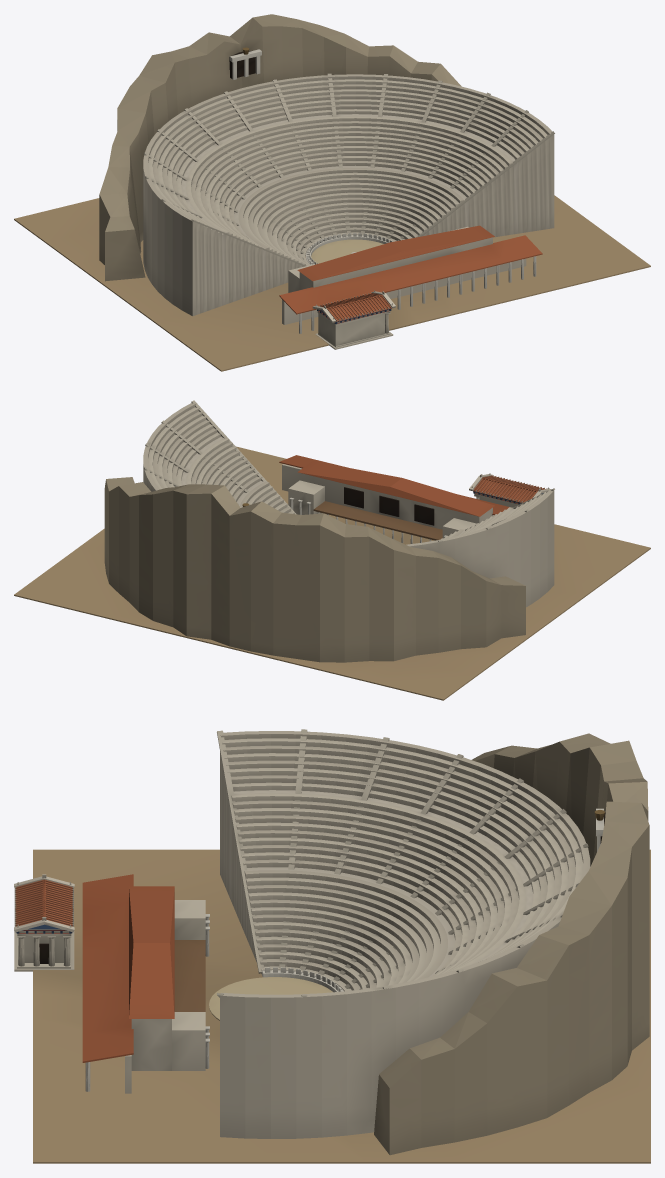
The model's file is theatre-dionysus.glb.
3 renders of one model, top to bottom at view 1: azimuth 30°, elevation 25°; view 2: azimuth 150°, elevation 25°; view 3: azimuth 270°, elevation 25°, orthographic. The views are drawn at different scales.
Parts seen in each view (by area): view 1: p1_seats, p0_cavea, p3_sanctuary, p2_stage; view 2: p0_cavea, p1_seats, p2_stage, p3_sanctuary; view 3: p0_cavea, p1_seats, p3_sanctuary, p2_stage.
Part boxes in pixels (bbox=[...]): p1_seats: bbox=[143, 73, 554, 316]; p0_cavea: bbox=[14, 14, 650, 371]; p3_sanctuary: bbox=[229, 47, 542, 349]; p2_stage: bbox=[288, 225, 494, 292]; p0_cavea: bbox=[14, 446, 650, 700]; p1_seats: bbox=[143, 400, 554, 607]; p2_stage: bbox=[288, 461, 494, 543]; p3_sanctuary: bbox=[240, 455, 551, 516]; p0_cavea: bbox=[33, 733, 650, 1163]; p1_seats: bbox=[217, 729, 590, 1138]; p3_sanctuary: bbox=[14, 808, 605, 1093]; p2_stage: bbox=[129, 886, 209, 1070].
Size of the model in its own units: 110 by 36.1 by 94.81.
